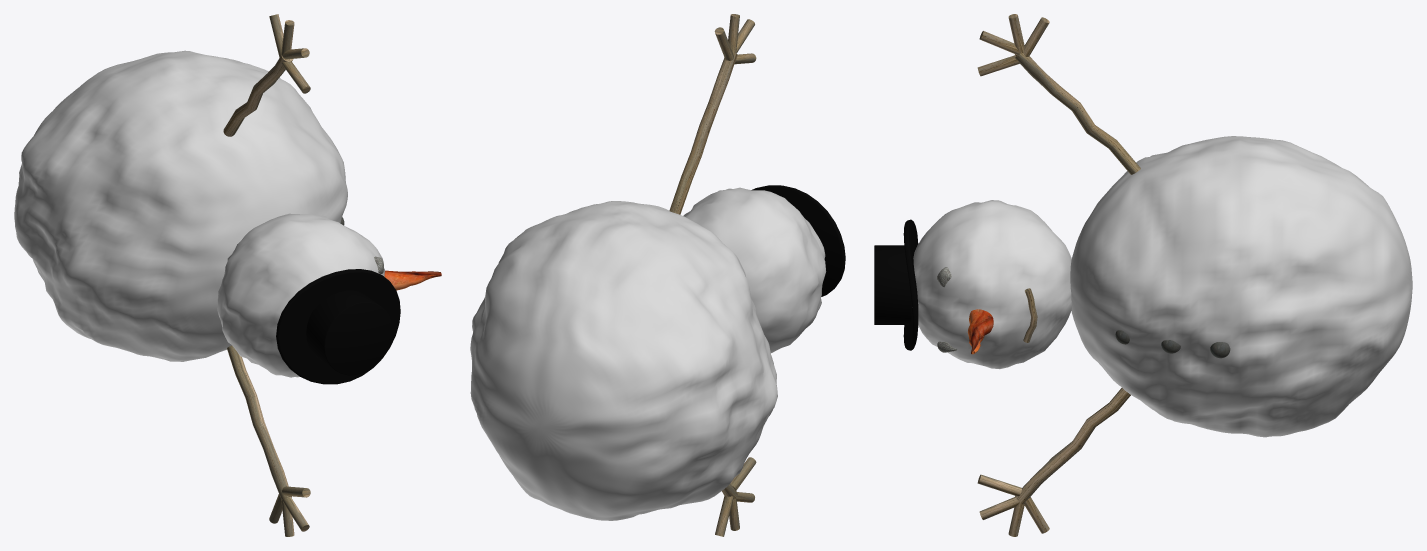
The picture shows the model from 3 angles, left to right: view 1: azimuth 30°, elevation 25°; view 2: azimuth 150°, elevation 25°; view 3: azimuth 270°, elevation 25°; orthographic projection.
Visible parts, largest first — view 1: corps, tete, ChamferCyl001, ChamferCyl002, bras_droit, bras_gauche, nez; view 2: corps, tete, ChamferCyl001, bras_gauche; view 3: corps, tete, ChamferCyl002, bras_gauche, bras_droit, ChamferCyl001, nez.
Part boxes in pixels (<box>): corps: <box>14,50,347,361</box>; tete: <box>217,213,384,377</box>; ChamferCyl001: <box>276,269,400,384</box>; ChamferCyl002: <box>306,290,392,375</box>; bras_droit: <box>227,345,291,499</box>; bras_gauche: <box>223,55,293,136</box>; nez: <box>384,270,441,290</box>; corps: <box>470,201,777,520</box>; tete: <box>683,187,826,352</box>; ChamferCyl001: <box>751,185,845,296</box>; bras_gauche: <box>669,53,737,214</box>; corps: <box>1070,136,1412,437</box>; tete: <box>913,200,1071,369</box>; ChamferCyl002: <box>874,245,911,324</box>; bras_gauche: <box>1014,52,1140,174</box>; bras_droit: <box>1015,388,1130,504</box>; ChamferCyl001: <box>903,219,918,350</box>; nez: <box>967,309,993,354</box>.
Bounding box in the file's own units: 2.23 × 4.06 × 3.81.
Materials: 6 (4 with a texture image).
